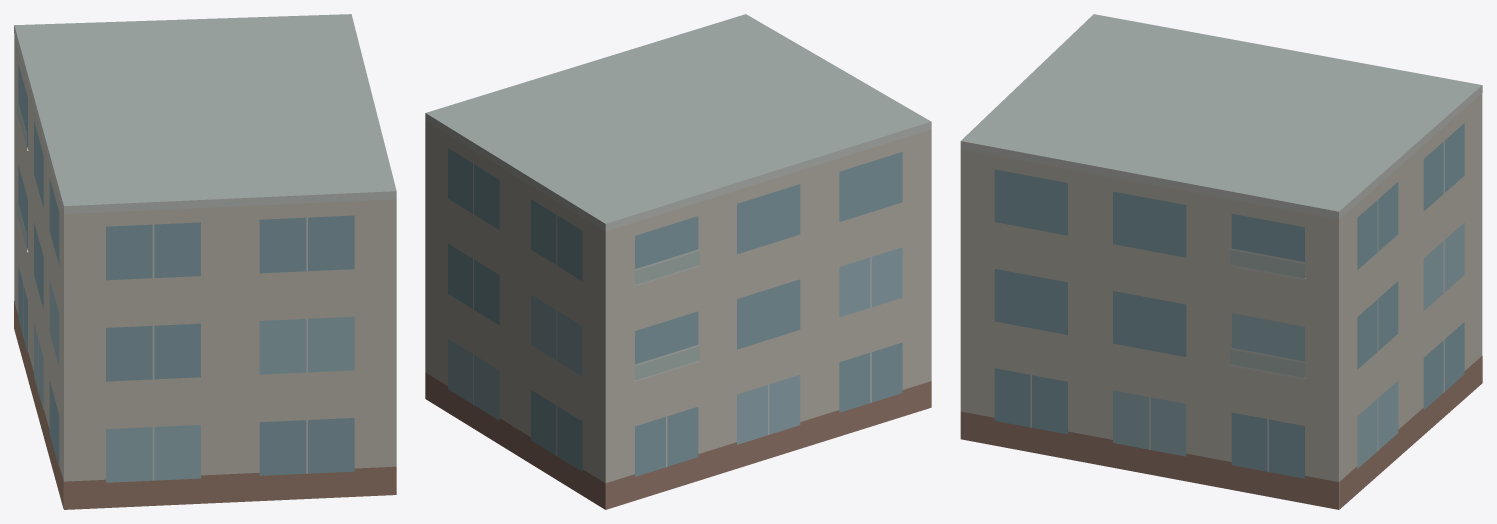
File: survey-upis-32672080.glb
3 renders of one model, left to right at view 1: azimuth 30°, elevation 25°; view 2: azimuth 150°, elevation 25°; view 3: azimuth 270°, elevation 25°, orthographic. The views are drawn at different scales.
Parts seen in each view (by area): view 1: survey-upis-32672080.tmp; view 2: survey-upis-32672080.tmp; view 3: survey-upis-32672080.tmp.
Part boxes in pixels (<box>): survey-upis-32672080.tmp: <box>14,14,396,509</box>; survey-upis-32672080.tmp: <box>425,14,931,509</box>; survey-upis-32672080.tmp: <box>960,14,1482,509</box>.
Size of the model in its own units: 13.02 by 9.15 by 14.52.
